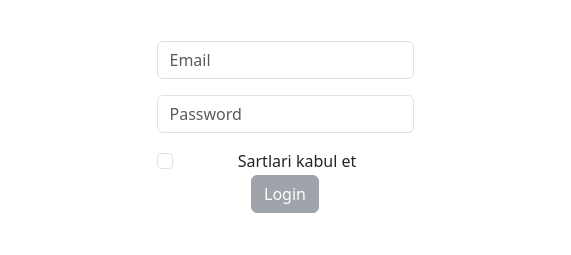
Login page › Error messages › shows errors when email and password are not valid
Type "enis@work" into the field with test id "email-input" at (286, 60), box 157,41 -> 414,79
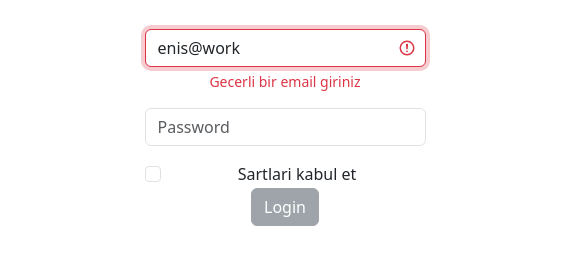
Type "enis" into the password field with test id "password-input" at (286, 127), box 145,108 -> 426,146
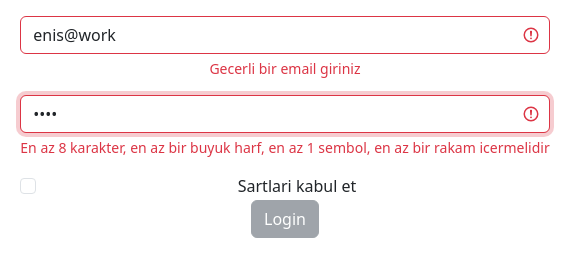
expect the number of elements with test id "error-message" is 2: met, box 209,59 -> 361,78; 20,137 -> 550,158
expect the text "En az 8 karakter, en az bir buyuk harf, en az 1 sembol, en az bir rakam icermelidir" is shown: met, box 20,138 -> 549,157
